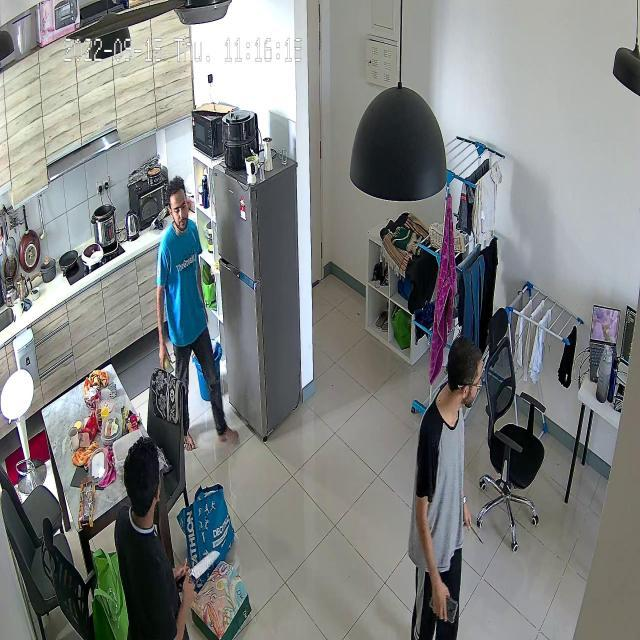Knife: (183, 545, 224, 588)
